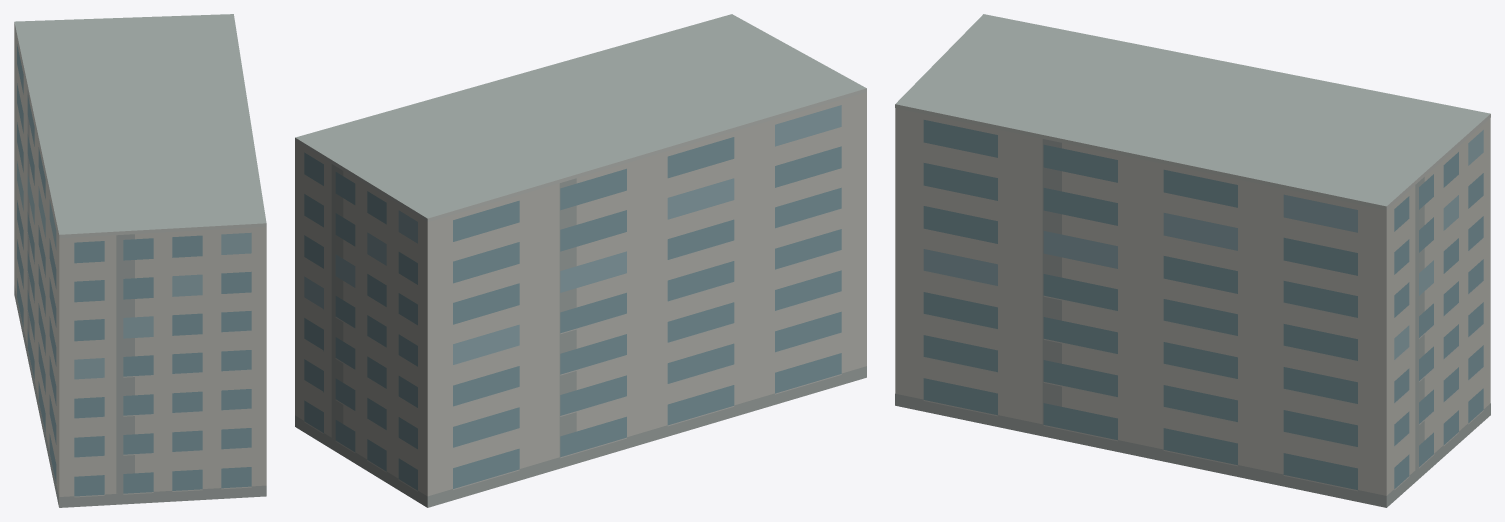
The model's file is survey-upis-32553124.glb.
3 renders of one model, left to right at view 1: azimuth 30°, elevation 25°; view 2: azimuth 150°, elevation 25°; view 3: azimuth 270°, elevation 25°, orthographic. The views are drawn at different scales.
Visible parts, largest first — view 1: survey-upis-32553124.tmp; view 2: survey-upis-32553124.tmp; view 3: survey-upis-32553124.tmp.
Boxes of the visible parts, x1,y1,x2,y2 form: survey-upis-32553124.tmp: (14, 14, 266, 507); survey-upis-32553124.tmp: (295, 14, 866, 507); survey-upis-32553124.tmp: (895, 14, 1490, 507).
Size of the model in its own units: 25.33 by 18.5 by 33.13.
